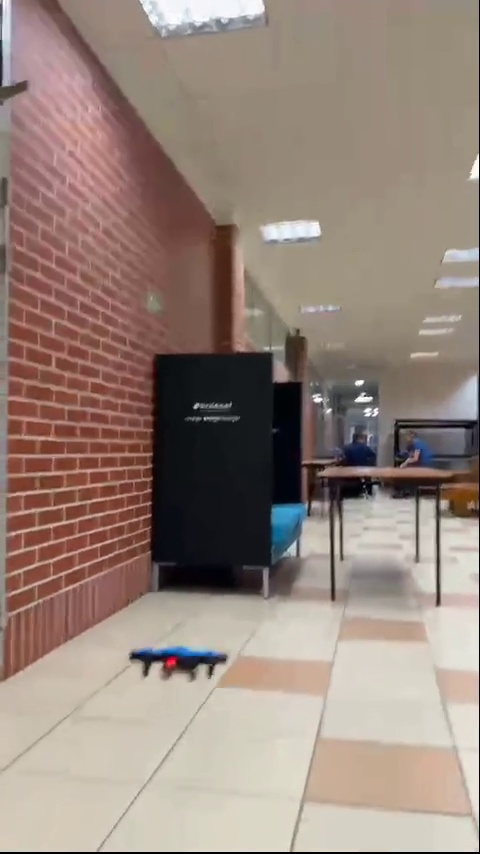drone: (127, 642, 226, 687)
no vest: (392, 432, 427, 479), (346, 426, 374, 467)
